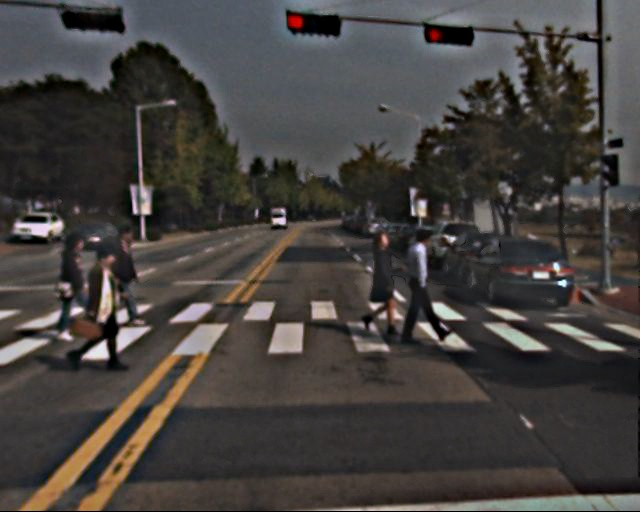person: (78, 244, 131, 373), (397, 230, 445, 348), (54, 231, 101, 346), (359, 229, 404, 338), (104, 228, 146, 330)
